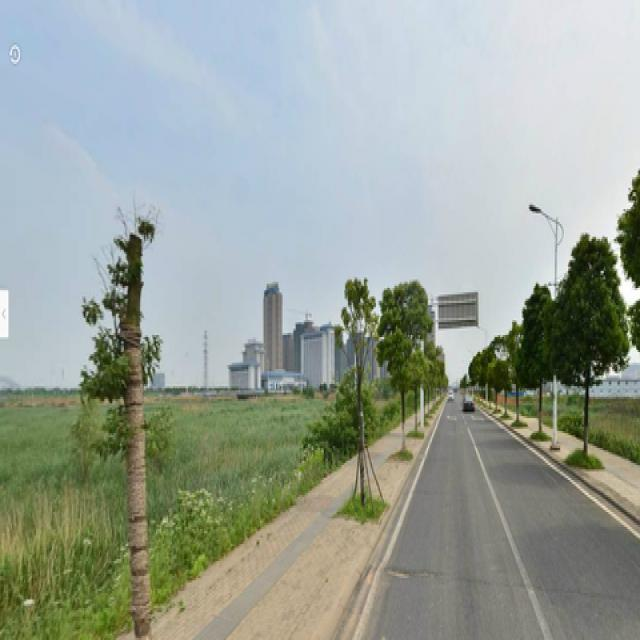cinn: (565, 243, 611, 452), (336, 276, 373, 487), (383, 269, 417, 461), (520, 282, 553, 439)
